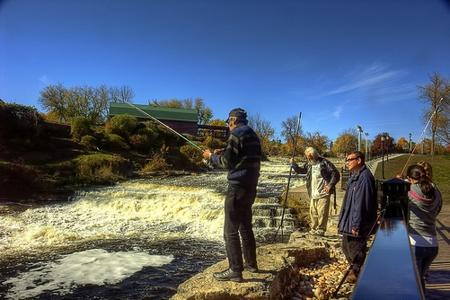person: (202, 109, 261, 283)
